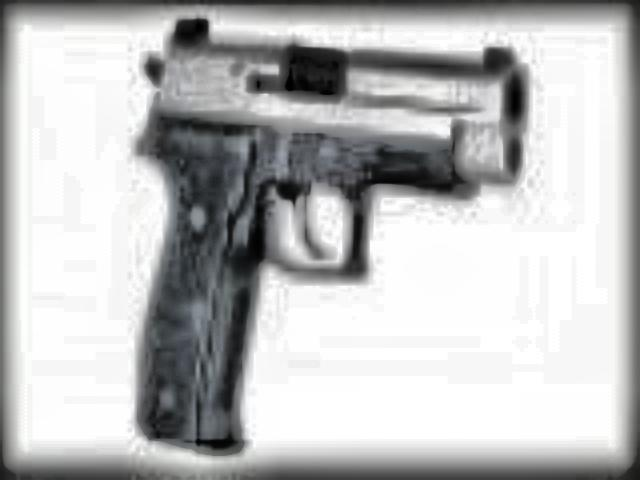pistol: (128, 12, 516, 452)
